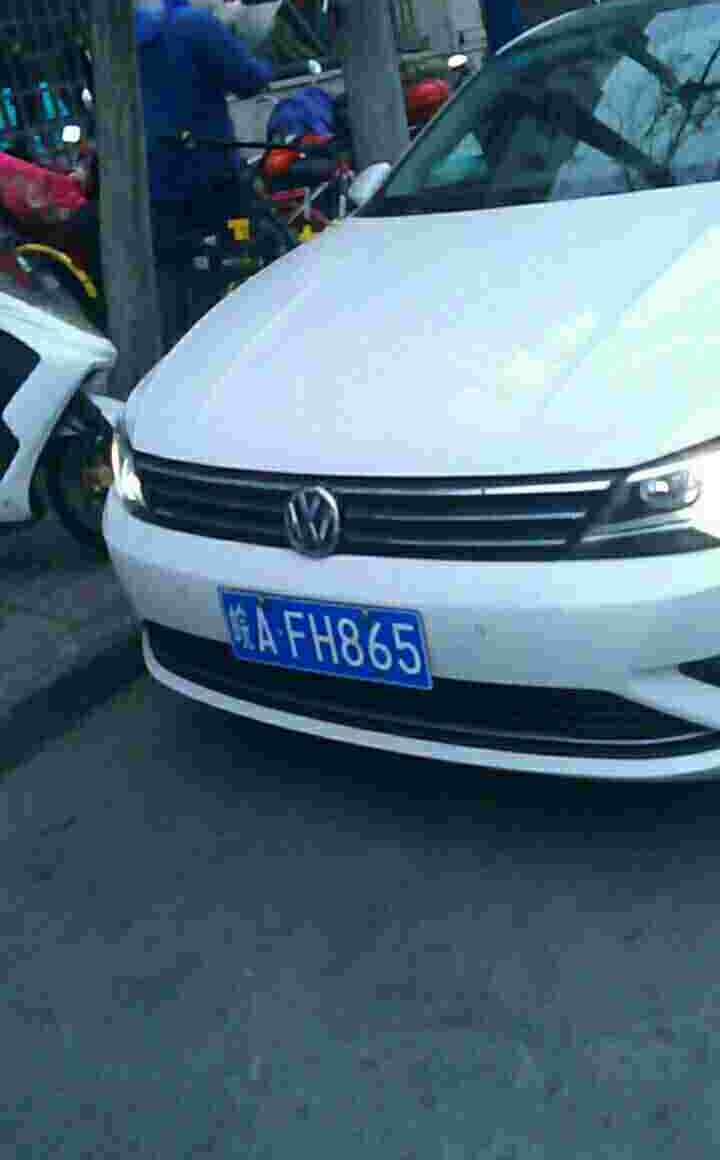license_plate: (221, 599, 440, 697)
